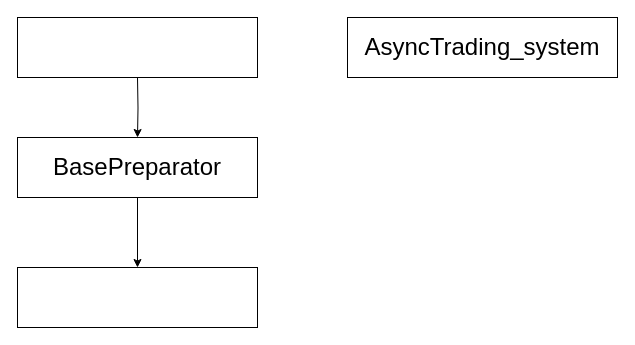
The diagram is 635 pixels wide and 345 high, and some of its shapes have lost their labels. Here are the shapes that lost their labels. From the top down, the centre of each, then its label:
At [137,47]: "Trading_system".
At [137,297]: "DataProvider".
